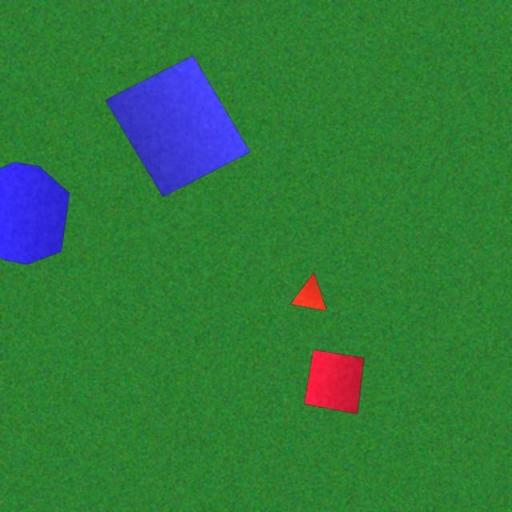BLUE_SQUARE: (104, 54, 251, 198)
RED_SQUARE: (303, 349, 365, 415)
